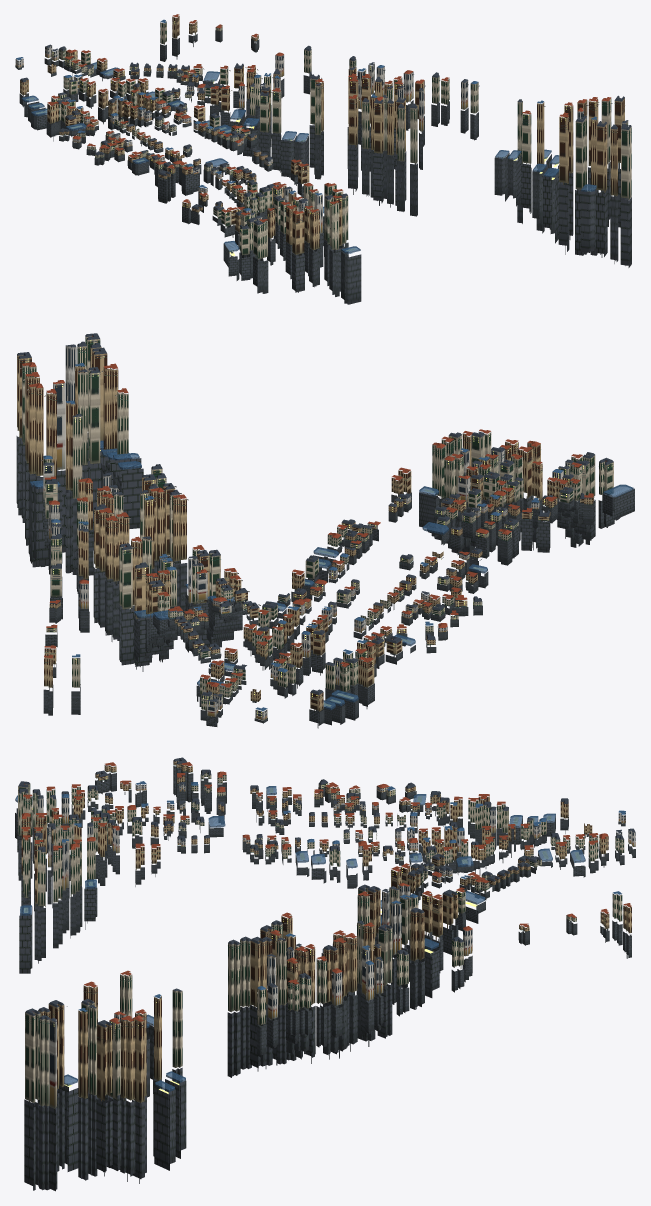
The model's file is osm_buildings_T_E00_S01_Q2.glb.
3 renders of one model, top to bottom at view 1: azimuth 30°, elevation 25°; view 2: azimuth 150°, elevation 25°; view 3: azimuth 270°, elevation 25°, orthographic. The views are drawn at different scales.
Parts seen in each view (by area): view 1: OSM_PBR_T_E00_S01_Q2_foundation, OSM_PBR_T_E00_S01_Q2_wall_french_ochre, OSM_PBR_T_E00_S01_Q2_wall_cream_stucco, OSM_PBR_T_E00_S01_Q2_roof_terracotta, OSM_PBR_T_E00_S01_Q2_roof_mansard_slate, OSM_PBR_T_E00_S01_Q2_greenhouse_blend, OSM_PBR_T_E00_S01_Q2_wall_warm_white, OSM_PBR_T_E00_S01_Q2_wall_pastel_sand, OSM_PBR_T_E00_S01_Q2_roof_mansard_deck, OSM_PBR_T_E00_S01_Q2_roof_alpine_blue, OSM_PBR_T_E00_S01_Q2_roof_mint_metal, OSM_PBR_T_E00_S01_Q2_balcony_railing; view 2: OSM_PBR_T_E00_S01_Q2_foundation, OSM_PBR_T_E00_S01_Q2_wall_french_ochre, OSM_PBR_T_E00_S01_Q2_wall_cream_stucco, OSM_PBR_T_E00_S01_Q2_roof_terracotta, OSM_PBR_T_E00_S01_Q2_roof_mansard_slate, OSM_PBR_T_E00_S01_Q2_wall_warm_white, OSM_PBR_T_E00_S01_Q2_greenhouse_blend, OSM_PBR_T_E00_S01_Q2_wall_pastel_sand, OSM_PBR_T_E00_S01_Q2_roof_mansard_deck, OSM_PBR_T_E00_S01_Q2_trim_cornice, OSM_PBR_T_E00_S01_Q2_roof_mint_metal, OSM_PBR_T_E00_S01_Q2_roof_alpine_blue (+1 smaller); view 3: OSM_PBR_T_E00_S01_Q2_foundation, OSM_PBR_T_E00_S01_Q2_wall_cream_stucco, OSM_PBR_T_E00_S01_Q2_wall_french_ochre, OSM_PBR_T_E00_S01_Q2_roof_terracotta, OSM_PBR_T_E00_S01_Q2_wall_warm_white, OSM_PBR_T_E00_S01_Q2_roof_mansard_slate, OSM_PBR_T_E00_S01_Q2_wall_pastel_sand, OSM_PBR_T_E00_S01_Q2_greenhouse_blend, OSM_PBR_T_E00_S01_Q2_roof_mansard_deck, OSM_PBR_T_E00_S01_Q2_roof_alpine_blue, OSM_PBR_T_E00_S01_Q2_trim_cornice, OSM_PBR_T_E00_S01_Q2_roof_mint_metal.
Boxes of the visible parts, box(x1,y1,x2,y2) form: OSM_PBR_T_E00_S01_Q2_foundation: box(15, 30, 631, 304); OSM_PBR_T_E00_S01_Q2_wall_french_ochre: box(20, 15, 624, 255); OSM_PBR_T_E00_S01_Q2_wall_cream_stucco: box(51, 21, 631, 259); OSM_PBR_T_E00_S01_Q2_roof_terracotta: box(47, 14, 611, 222); OSM_PBR_T_E00_S01_Q2_roof_mansard_slate: box(20, 44, 631, 229); OSM_PBR_T_E00_S01_Q2_greenhouse_blend: box(21, 62, 596, 253); OSM_PBR_T_E00_S01_Q2_wall_warm_white: box(15, 45, 628, 233); OSM_PBR_T_E00_S01_Q2_wall_pastel_sand: box(51, 50, 423, 221); OSM_PBR_T_E00_S01_Q2_roof_mansard_deck: box(21, 45, 630, 252); OSM_PBR_T_E00_S01_Q2_roof_alpine_blue: box(16, 19, 596, 211); OSM_PBR_T_E00_S01_Q2_roof_mint_metal: box(20, 20, 628, 233); OSM_PBR_T_E00_S01_Q2_balcony_railing: box(47, 21, 610, 232); OSM_PBR_T_E00_S01_Q2_foundation: box(16, 433, 634, 728); OSM_PBR_T_E00_S01_Q2_wall_french_ochre: box(17, 347, 593, 711); OSM_PBR_T_E00_S01_Q2_wall_cream_stucco: box(22, 336, 613, 710); OSM_PBR_T_E00_S01_Q2_roof_terracotta: box(22, 335, 606, 687); OSM_PBR_T_E00_S01_Q2_roof_mansard_slate: box(17, 334, 613, 701); OSM_PBR_T_E00_S01_Q2_wall_warm_white: box(43, 346, 563, 720); OSM_PBR_T_E00_S01_Q2_greenhouse_blend: box(30, 440, 633, 709); OSM_PBR_T_E00_S01_Q2_wall_pastel_sand: box(51, 462, 574, 709); OSM_PBR_T_E00_S01_Q2_roof_mansard_deck: box(18, 333, 632, 708); OSM_PBR_T_E00_S01_Q2_trim_cornice: box(17, 336, 612, 711); OSM_PBR_T_E00_S01_Q2_roof_mint_metal: box(17, 341, 613, 702); OSM_PBR_T_E00_S01_Q2_roof_alpine_blue: box(43, 363, 563, 710); OSM_PBR_T_E00_S01_Q2_foundation: box(15, 765, 635, 1191); OSM_PBR_T_E00_S01_Q2_wall_cream_stucco: box(18, 773, 624, 1106); OSM_PBR_T_E00_S01_Q2_wall_french_ochre: box(21, 761, 631, 1102); OSM_PBR_T_E00_S01_Q2_roof_terracotta: box(21, 762, 631, 1023); OSM_PBR_T_E00_S01_Q2_wall_warm_white: box(48, 783, 635, 1109); OSM_PBR_T_E00_S01_Q2_roof_mansard_slate: box(18, 758, 635, 1027); OSM_PBR_T_E00_S01_Q2_wall_pastel_sand: box(37, 793, 622, 1004); OSM_PBR_T_E00_S01_Q2_greenhouse_blend: box(15, 786, 585, 1091); OSM_PBR_T_E00_S01_Q2_roof_mansard_deck: box(19, 757, 622, 1091); OSM_PBR_T_E00_S01_Q2_roof_alpine_blue: box(61, 781, 625, 1011); OSM_PBR_T_E00_S01_Q2_trim_cornice: box(19, 760, 634, 1036); OSM_PBR_T_E00_S01_Q2_roof_mint_metal: box(19, 764, 630, 1039).
Bounding box in the file's own units: 1003 × 330 × 990.
Materials: 18 (16 with a texture image).
